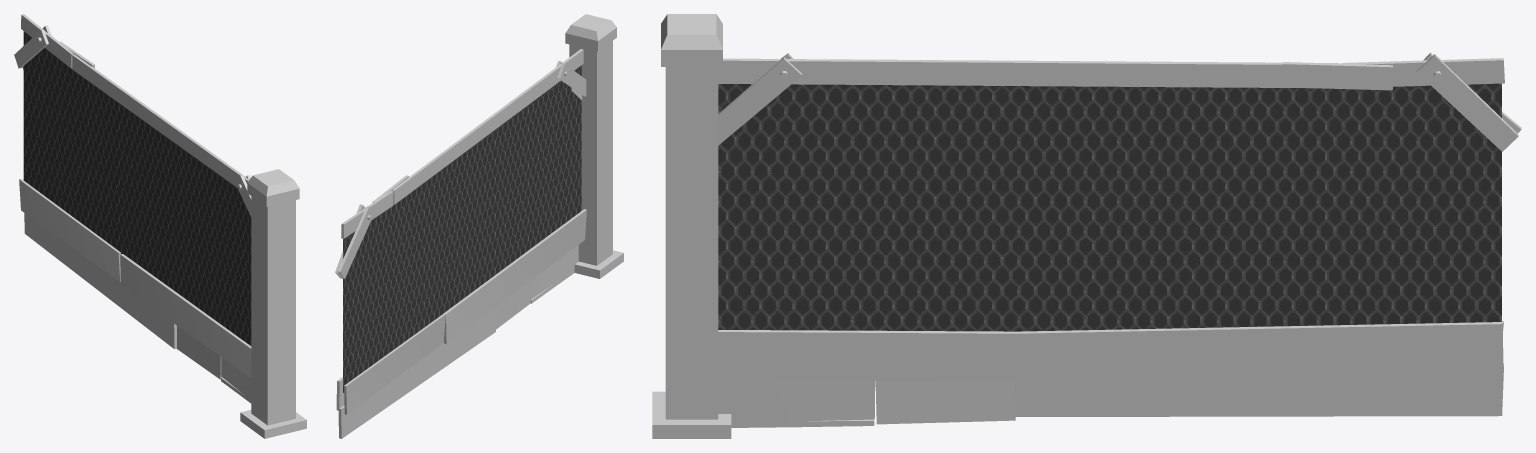
The picture shows the model from 3 angles, left to right: view 1: azimuth 30°, elevation 25°; view 2: azimuth 150°, elevation 25°; view 3: azimuth 270°, elevation 25°; orthographic projection. The views are drawn at different scales.
Visible parts, largest first — view 1: body0_model0_lod0_mesh1, body0_model0_lod0_mesh0; view 2: body0_model0_lod0_mesh1, body0_model0_lod0_mesh0; view 3: body0_model0_lod0_mesh1, body0_model0_lod0_mesh0.
Part boxes in pixels (x1=…): body0_model0_lod0_mesh1: x1=23, y1=31, x2=251, y2=345; body0_model0_lod0_mesh0: x1=14, y1=14, x2=306, y2=438; body0_model0_lod0_mesh1: x1=343, y1=65, x2=581, y2=392; body0_model0_lod0_mesh0: x1=335, y1=14, x2=623, y2=438; body0_model0_lod0_mesh1: x1=718, y1=83, x2=1501, y2=331; body0_model0_lod0_mesh0: x1=652, y1=14, x2=1521, y2=438.
Bounding box in the file's own units: 23.99 × 134 × 266.
Materials: 2 (1 with a texture image).
